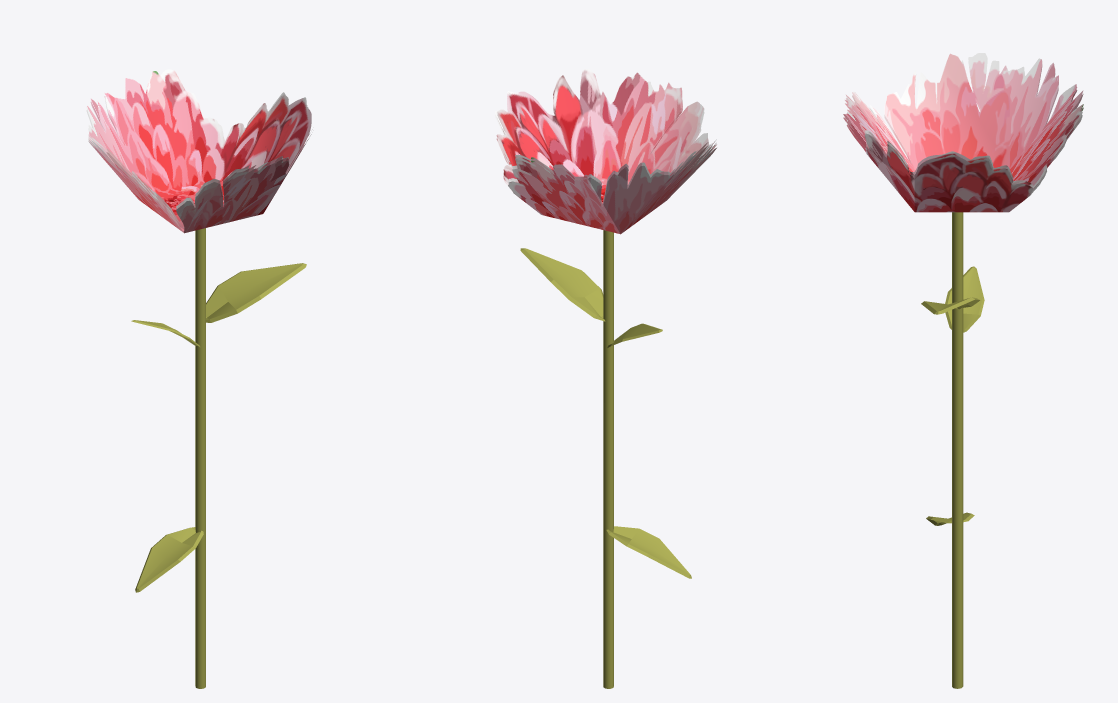
File: SM_flower_04.fbx
The picture shows the model from 3 angles, left to right: view 1: azimuth 30°, elevation 25°; view 2: azimuth 150°, elevation 25°; view 3: azimuth 270°, elevation 25°; orthographic projection. The views are drawn at different scales.
Visible parts, largest first — view 1: flower_04; view 2: flower_04; view 3: flower_04.
Boxes of the visible parts, x1,y1,x2,y2 form: flower_04: [86, 69, 312, 688]; flower_04: [495, 69, 716, 688]; flower_04: [843, 53, 1083, 688].
Bounding box in the file's own units: 26.4 × 62.98 × 26.4.
